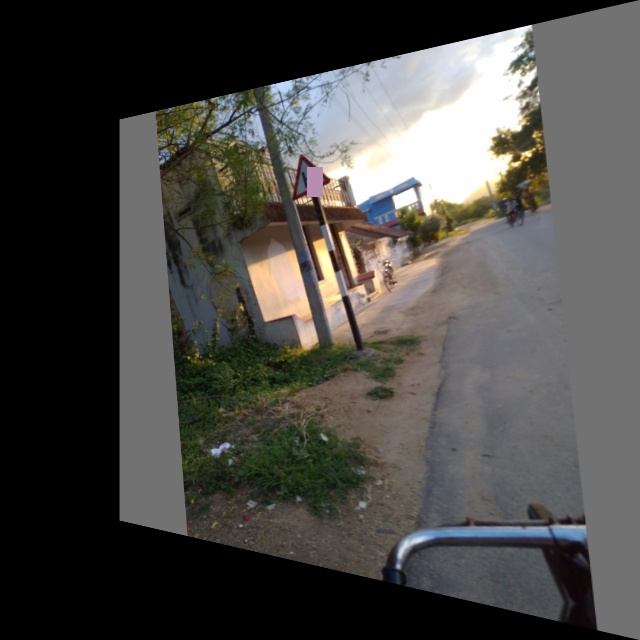Side_Road_Right: (284, 143, 335, 203)
